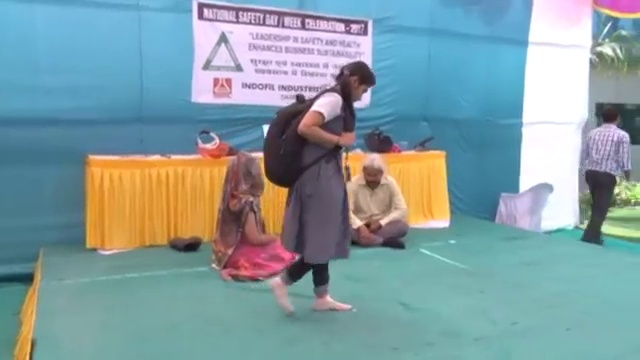helmet_off: (226, 152, 265, 200), (335, 63, 374, 103), (361, 153, 384, 190), (601, 107, 620, 125)
person: (262, 61, 376, 317), (211, 151, 297, 282), (580, 108, 631, 246), (340, 152, 410, 251)
